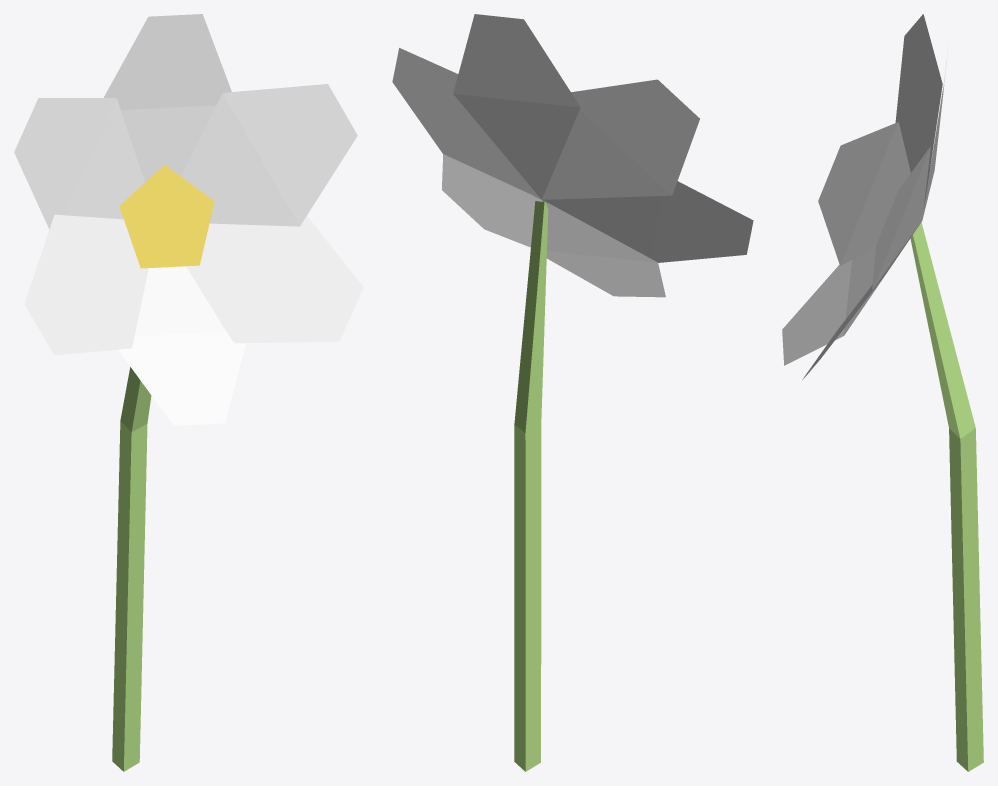
File: Flower_e_TwoS_03.fbx
The picture shows the model from 3 angles, left to right: view 1: azimuth 30°, elevation 25°; view 2: azimuth 150°, elevation 25°; view 3: azimuth 270°, elevation 25°; orthographic projection. The views are drawn at different scales.
Visible parts, largest first — view 1: Flower_e_TwoS_03; view 2: Flower_e_TwoS_03; view 3: Flower_e_TwoS_03.
Part boxes in pixels (<box>): Flower_e_TwoS_03: <box>14,14,363,771</box>; Flower_e_TwoS_03: <box>392,14,753,771</box>; Flower_e_TwoS_03: <box>782,14,983,771</box>.
Bounding box in the file's own units: 0.2034 × 0.4162 × 0.1029.
